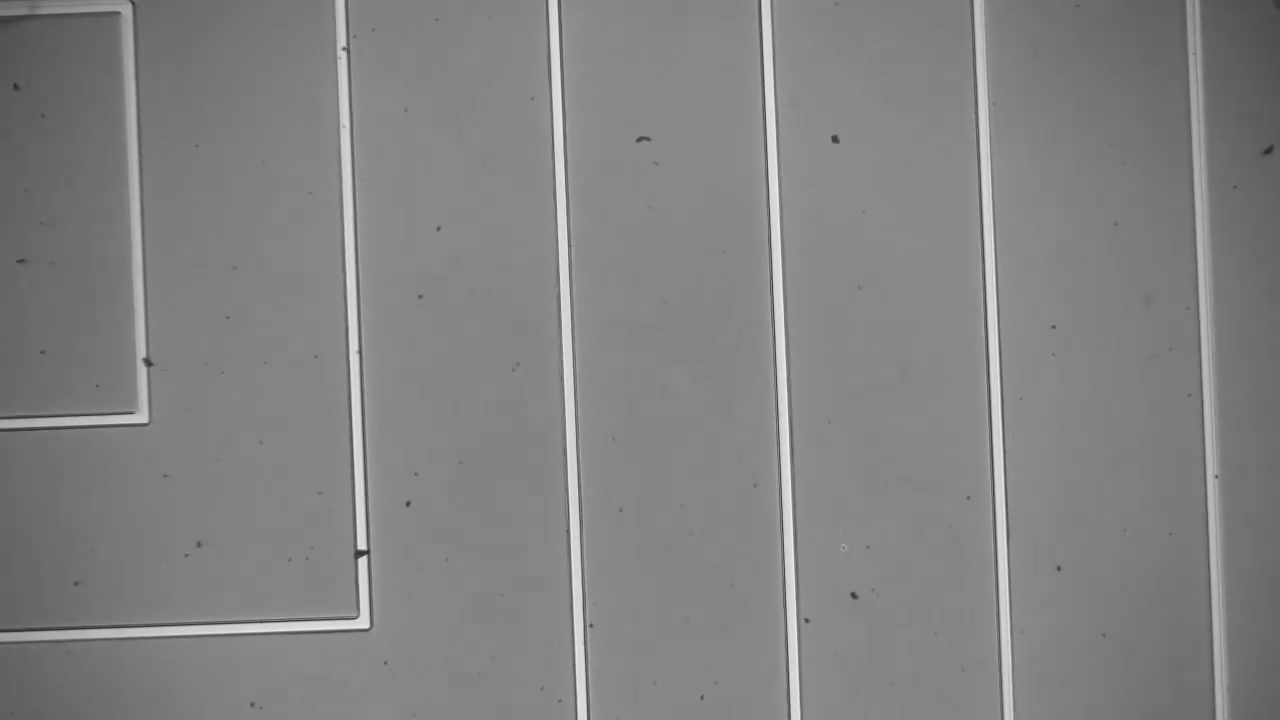stains_enbedded: (348, 534, 379, 564), (131, 348, 159, 376)
